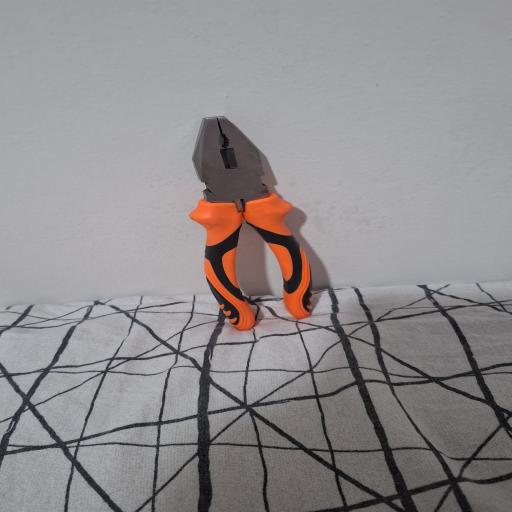alicate: (186, 116, 323, 332)
